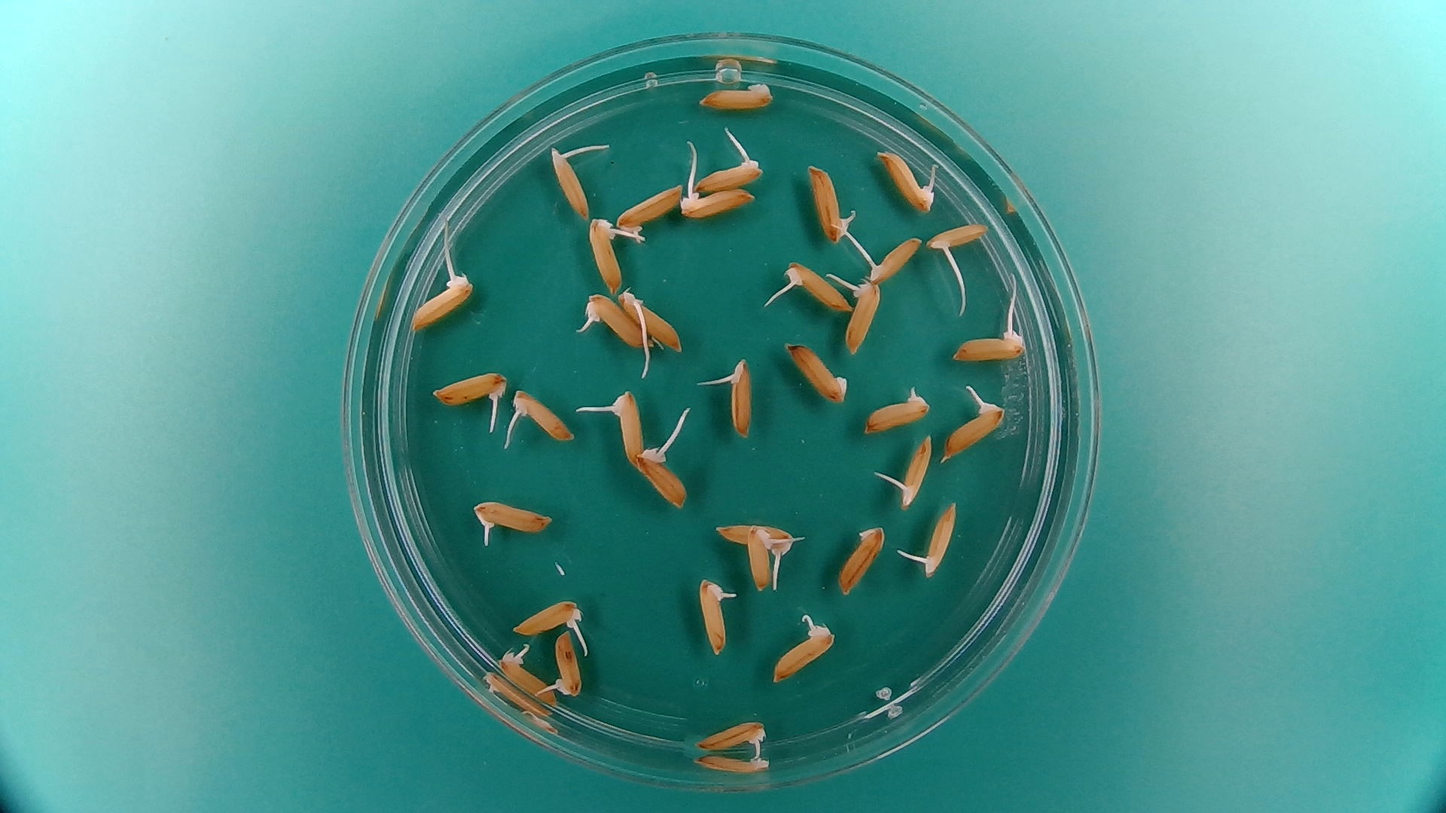no: (782, 338, 851, 405), (835, 521, 886, 596), (693, 76, 777, 111)
yes: (805, 160, 859, 246), (578, 290, 649, 352), (614, 180, 687, 240), (619, 290, 687, 353), (940, 400, 1006, 464), (768, 620, 834, 684), (508, 385, 578, 444), (786, 257, 855, 316), (874, 149, 934, 214), (405, 273, 471, 332), (468, 496, 554, 541), (429, 365, 510, 412), (545, 142, 593, 220), (861, 383, 933, 434), (496, 647, 557, 705), (697, 574, 739, 657), (633, 445, 686, 510), (918, 496, 959, 580), (712, 518, 797, 558), (861, 233, 924, 285), (718, 353, 756, 439), (947, 324, 1027, 364), (894, 431, 935, 508), (509, 595, 586, 636), (843, 280, 883, 358), (586, 215, 624, 296), (605, 385, 645, 461), (679, 184, 755, 223), (691, 716, 769, 754), (924, 215, 991, 254), (692, 154, 760, 191), (551, 628, 585, 699), (743, 524, 775, 595)
